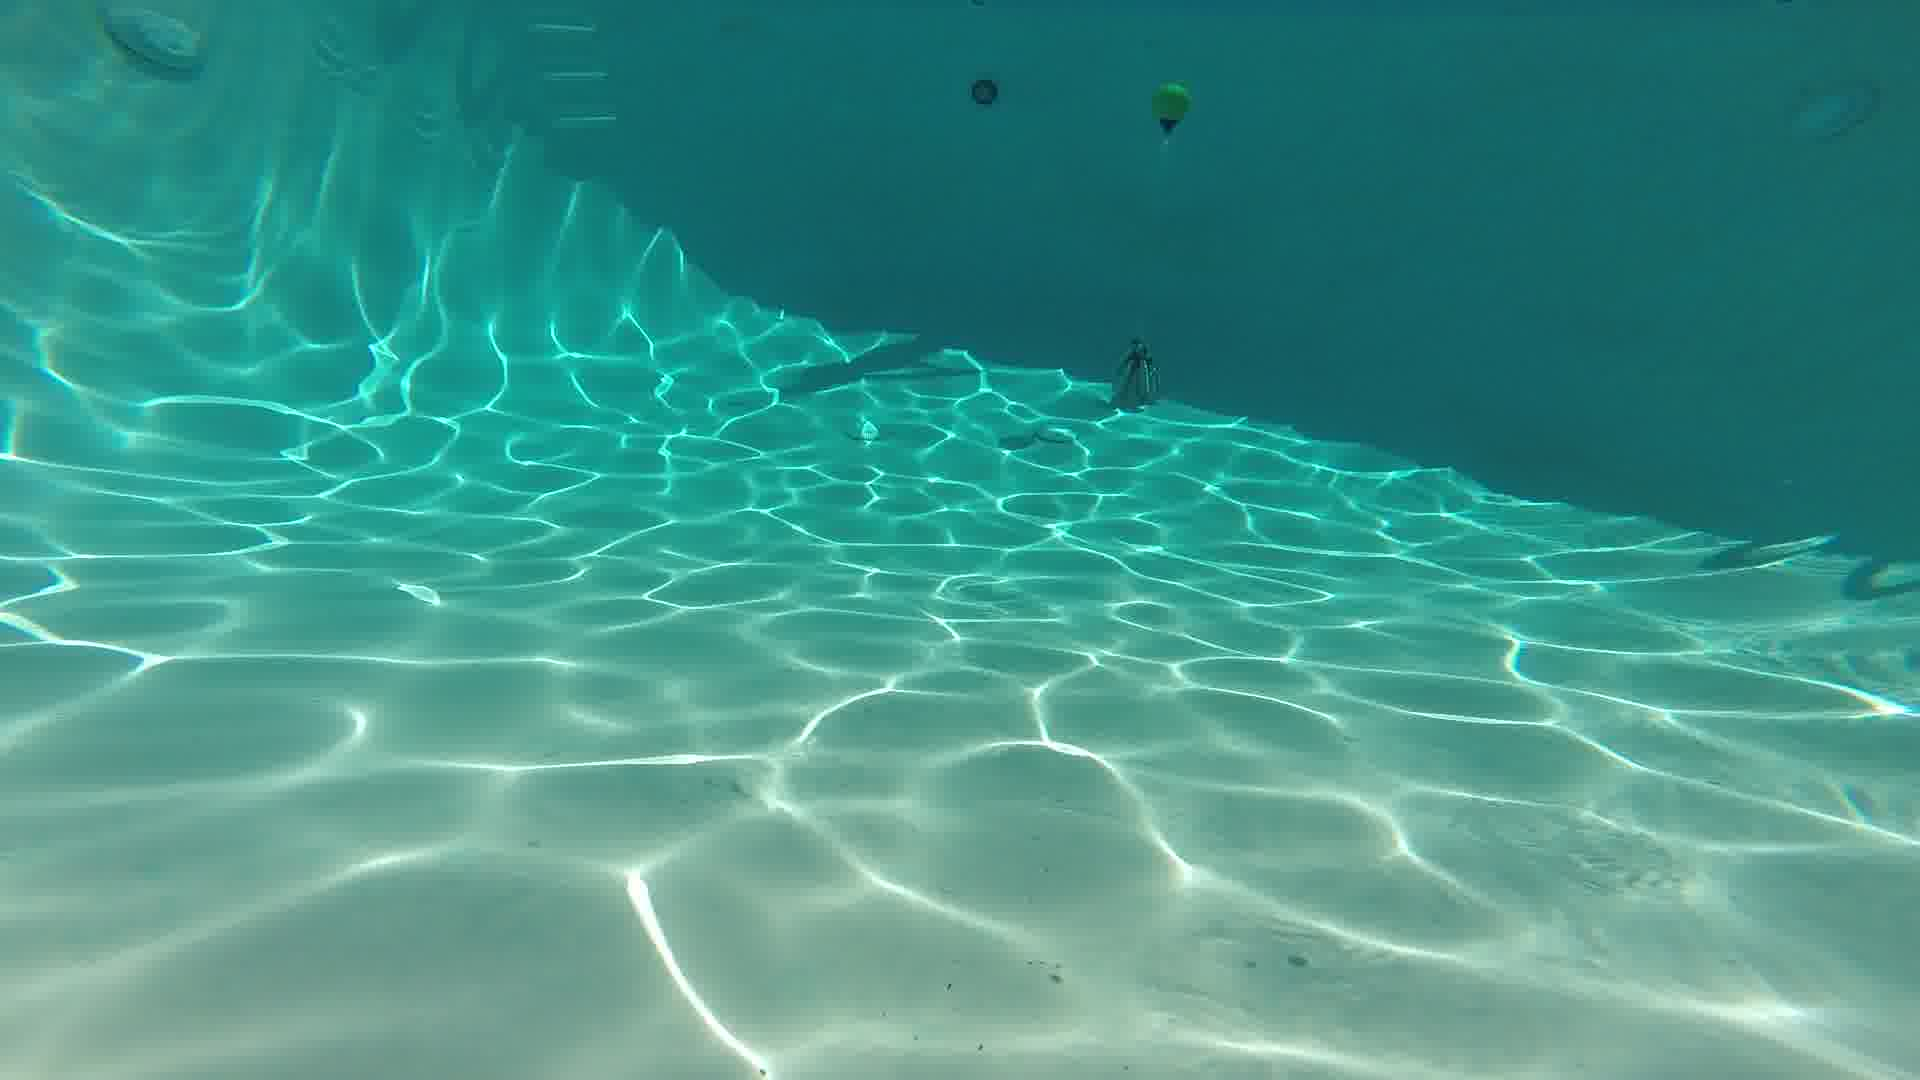yellow buoy: (1150, 76, 1195, 149)
